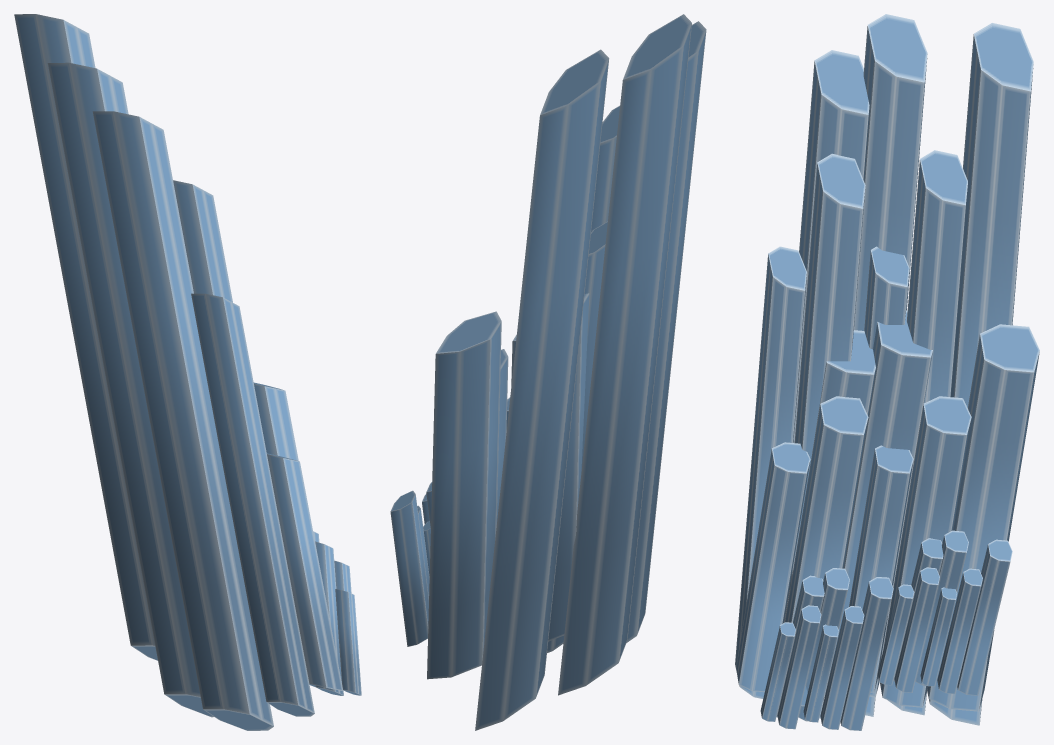
Rendered from wall_crystal_pipes_06.fbx.
3 views of the same model, side by side, from view 1: azimuth 30°, elevation 25°; view 2: azimuth 150°, elevation 25°; view 3: azimuth 270°, elevation 25° (orthographic). The views are drawn at different scales.
Parts seen in each view (by area): view 1: wall_crystal_pipes_06; view 2: wall_crystal_pipes_06; view 3: wall_crystal_pipes_06.
Boxes of the visible parts, box(x1,y1,x2,y2) form: wall_crystal_pipes_06: box(14, 14, 361, 730); wall_crystal_pipes_06: box(390, 14, 706, 730); wall_crystal_pipes_06: box(735, 14, 1039, 730).
Size of the model in its own units: 1.11 by 2.96 by 1.27.
Materials: 1 (1 with a texture image).
